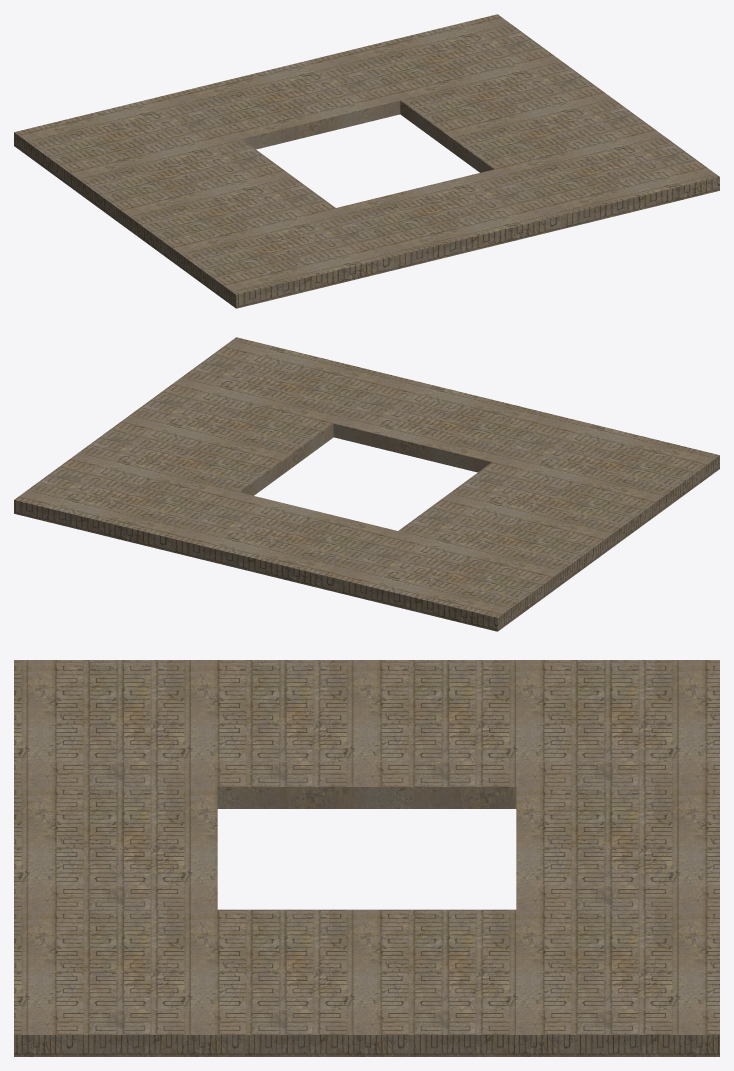
The model's file is toit_salle1.FBX.
3 views of the same model, one above another, from view 1: azimuth 30°, elevation 25°; view 2: azimuth 150°, elevation 25°; view 3: azimuth 270°, elevation 25° (orthographic). The views are drawn at different scales.
Visible parts, largest first — view 1: toit; view 2: toit; view 3: toit.
Part boxes in pixels (left/top/right/bottom): toit: left=14, top=14, right=719, bottom=308; toit: left=14, top=337, right=719, bottom=631; toit: left=14, top=660, right=719, bottom=1056.
Bounding box in the file's own units: 733 × 20 × 583.
Materials: 1 (1 with a texture image).
